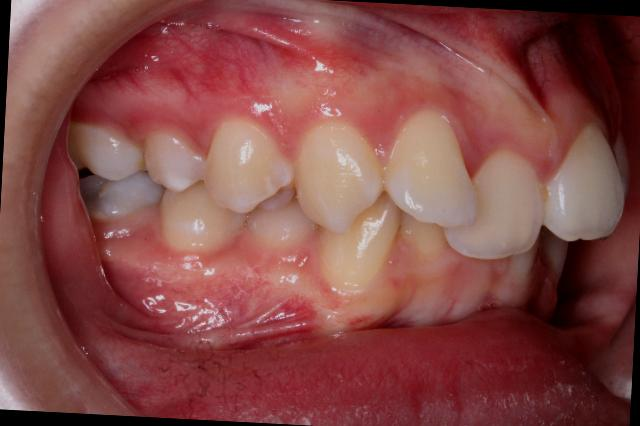canine class II 1/4: (246, 102, 407, 300)
molar class II 1/4: (59, 114, 167, 232)
